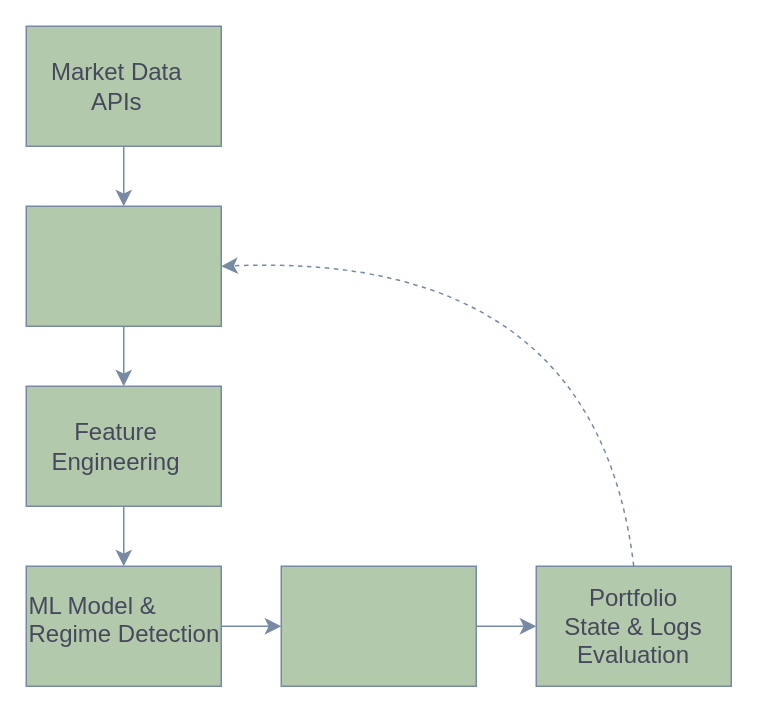
The diagram is 758 pixels wide and 713 high, and some of its shapes have lost their labels. The centre of each missing label's shape, as x and y in pixels:
"Data Fetching & Cleaning" goes at pixel 123 265.
"Decision & Execution Layer" goes at pixel 378 625.
